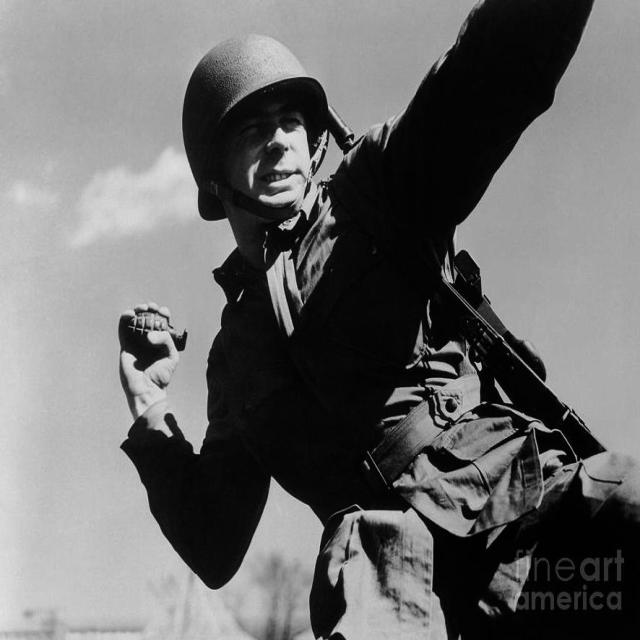grenade: (118, 302, 189, 372)
